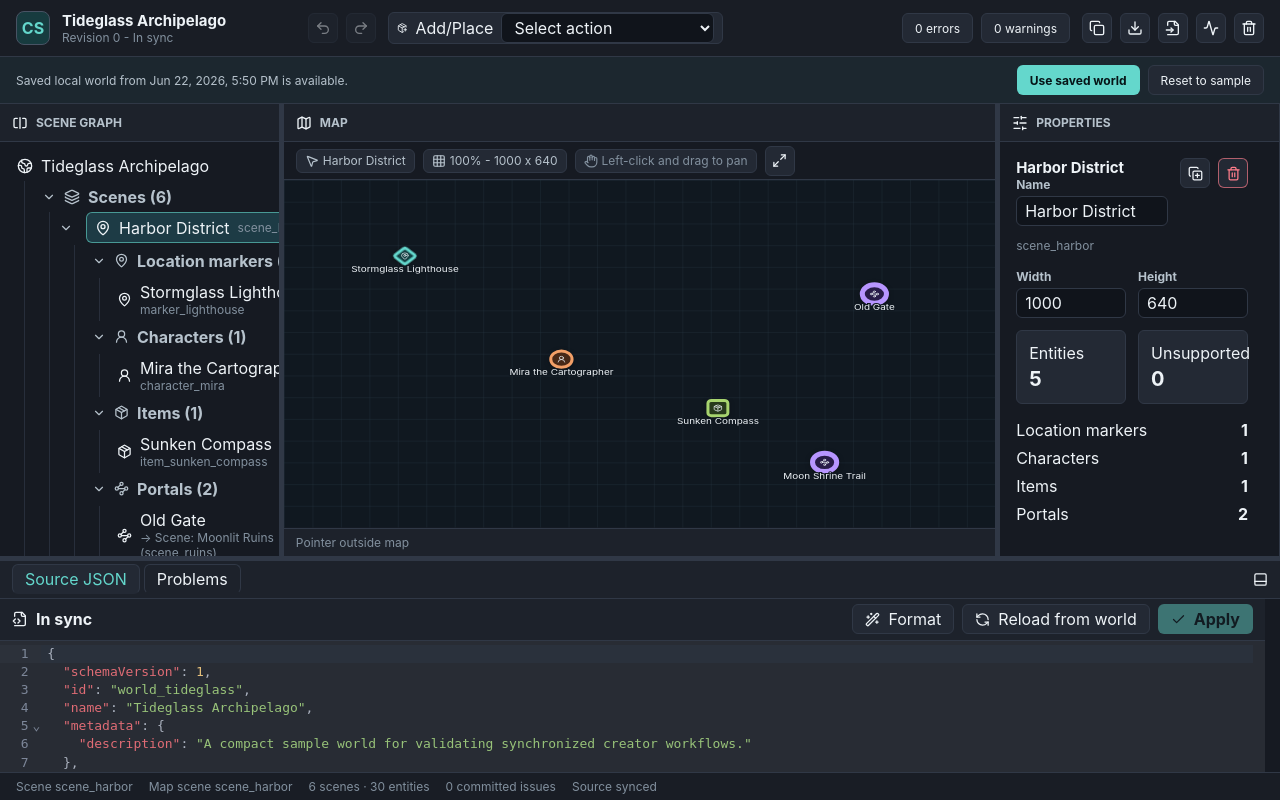
Test case: rendered surface equivalence classes › offers saved local worlds as an explicit restore choice on load
This screenshot has width=1280, height=800.
Check: the text "Saved local world from Jun 22, 2026, 5:50 PM is available." is shown, box x1=16 y1=72 x2=348 y2=88
Step 1. Click the button "Use saved world" → (1078, 80), box x1=1017 y1=65 x2=1140 y2=95
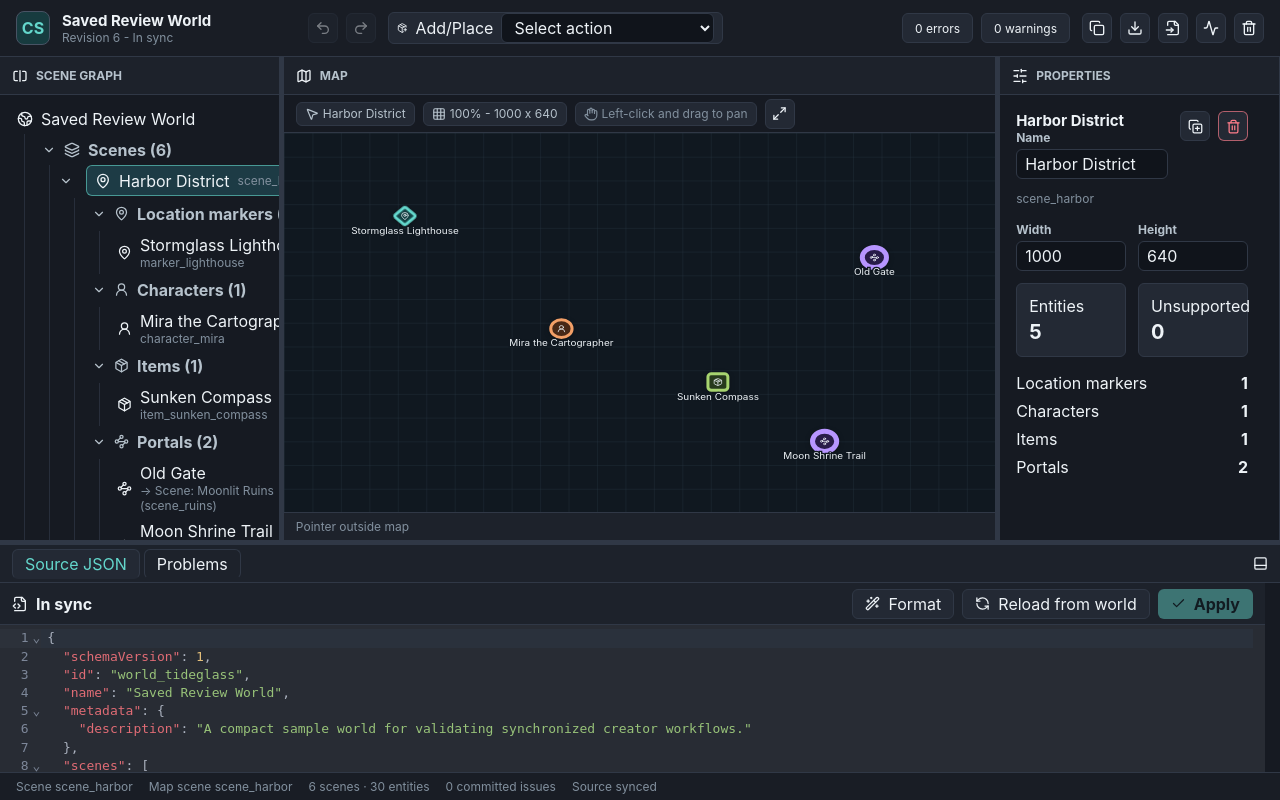
Check: the heading "Saved Review World" is shown, box x1=62 y1=12 x2=211 y2=30
Check: the text "Saved local world from" is gone
